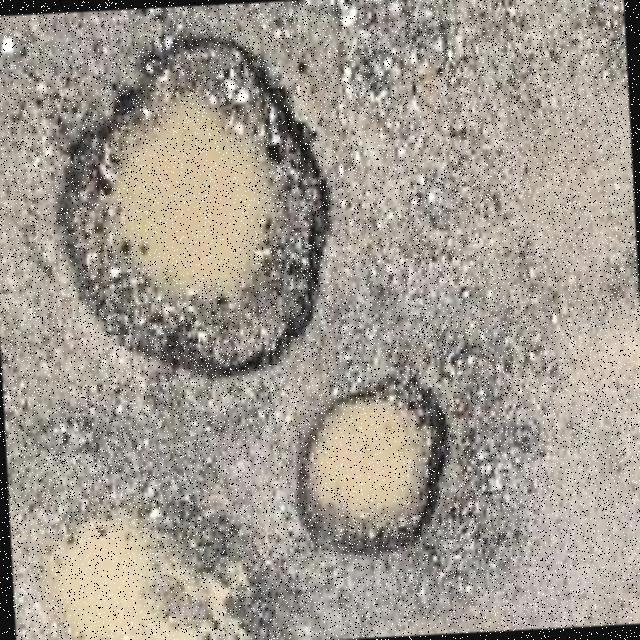Pothole: (55, 39, 330, 377), (40, 509, 266, 640), (291, 395, 449, 556)
